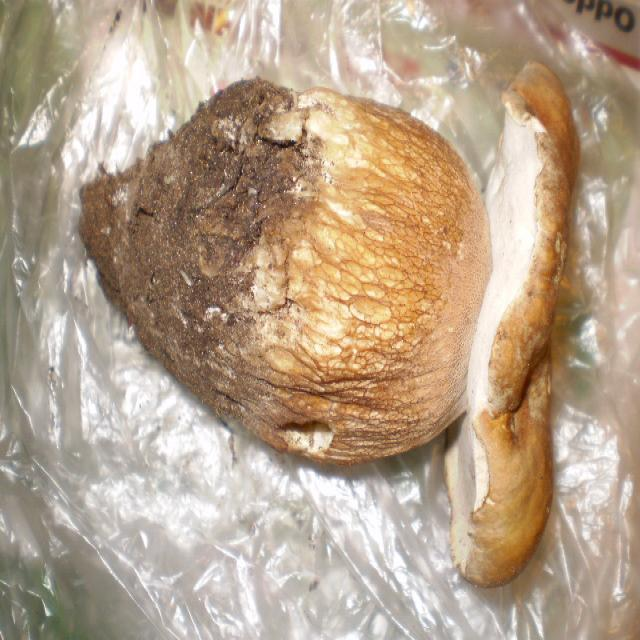Boletus: (74, 67, 576, 585)
